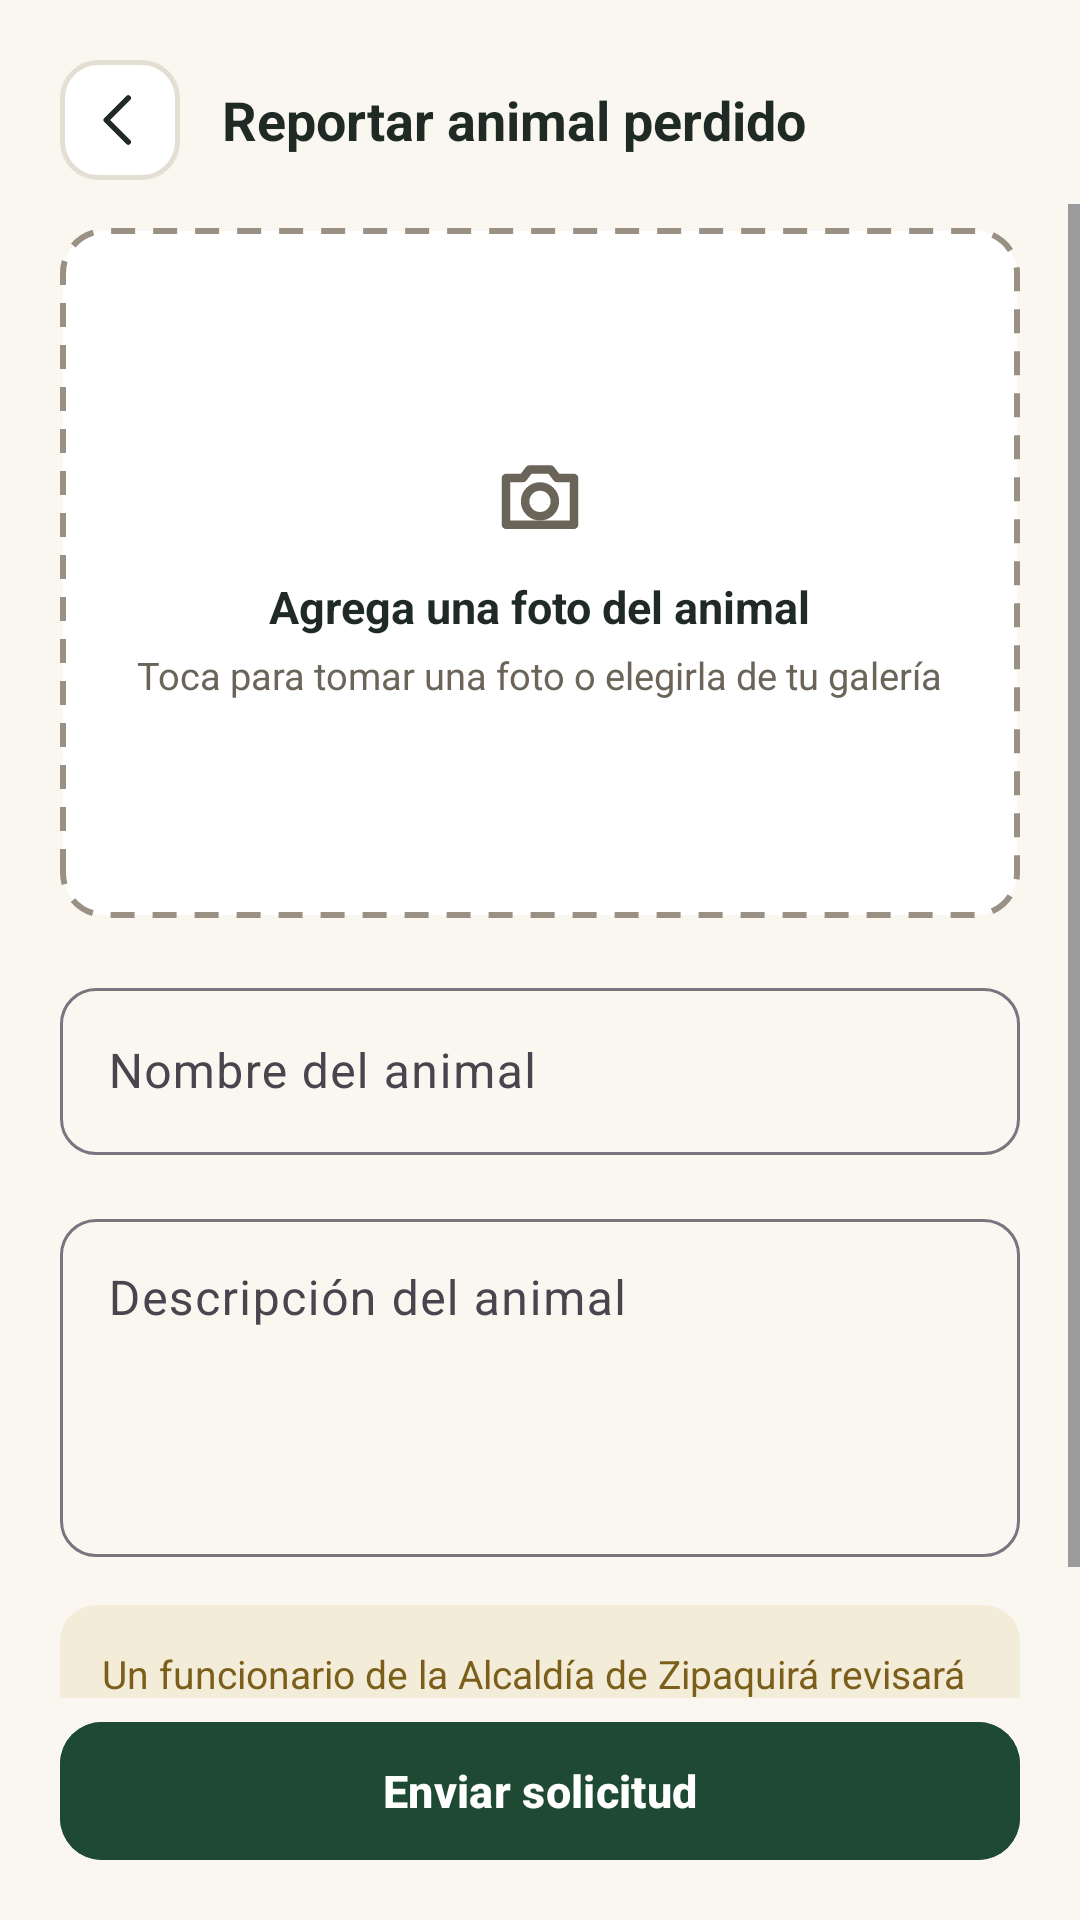

Icon click points for this 1080px x 1920px phone screenshot, format (x=x, y=y):
camera: (x=540, y=497)
← Atrás: (x=120, y=120)
